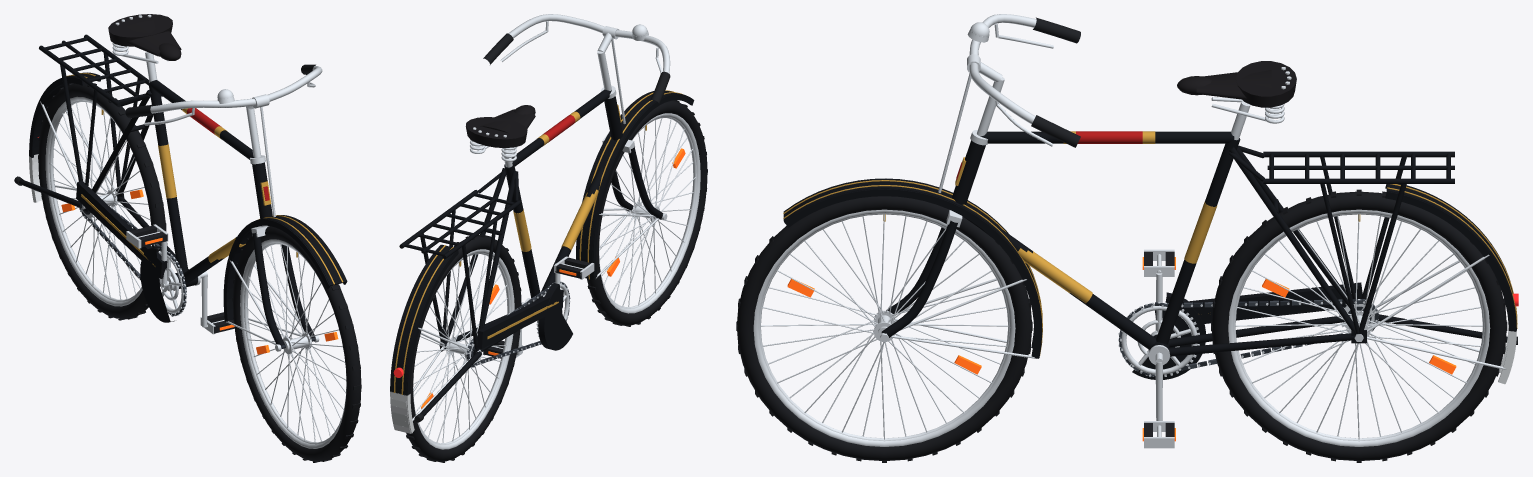
File: atlas_roadster_bicycle.glb
3 renders of one model, left to right at view 1: azimuth 30°, elevation 25°; view 2: azimuth 150°, elevation 25°; view 3: azimuth 270°, elevation 25°, orthographic. The views are drawn at different scales.
Visible parts, largest first — view 1: Frame_Static, Wheel_Front, Wheel_Rear, Steering_Assembly, Crank_Assembly, Pedal_R, Pedal_L; view 2: Frame_Static, Wheel_Front, Steering_Assembly, Wheel_Rear, Pedal_R, Crank_Assembly; view 3: Frame_Static, Wheel_Front, Wheel_Rear, Steering_Assembly, Crank_Assembly, Pedal_L, Pedal_R.
Boxes of the visible parts, left/top/right/bottom form: Frame_Static: left=14, top=14, right=272, bottom=322; Wheel_Front: left=232, top=226, right=361, bottom=462; Wheel_Rear: left=38, top=82, right=167, bottom=320; Steering_Assembly: left=125, top=64, right=347, bottom=345; Crank_Assembly: left=158, top=231, right=207, bottom=327; Pedal_R: left=126, top=224, right=168, bottom=248; Pedal_L: left=200, top=312, right=234, bottom=334; Frame_Static: left=390, top=85, right=622, bottom=433; Wheel_Front: left=587, top=100, right=707, bottom=326; Steering_Assembly: left=483, top=14, right=694, bottom=279; Wheel_Rear: left=406, top=234, right=521, bottom=462; Pedal_R: left=554, top=256, right=594, bottom=279; Crank_Assembly: left=517, top=263, right=569, bottom=354; Frame_Static: left=952, top=61, right=1518, bottom=384; Wheel_Front: left=736, top=196, right=1032, bottom=462; Wheel_Rear: left=1211, top=189, right=1507, bottom=462; Steering_Assembly: left=783, top=14, right=1080, bottom=358; Crank_Assembly: left=1118, top=273, right=1199, bottom=420; Pedal_L: left=1142, top=421, right=1175, bottom=448; Pedal_R: left=1142, top=249, right=1175, bottom=276.
Size of the model in its own units: 0.6253 by 1.11 by 1.88.
